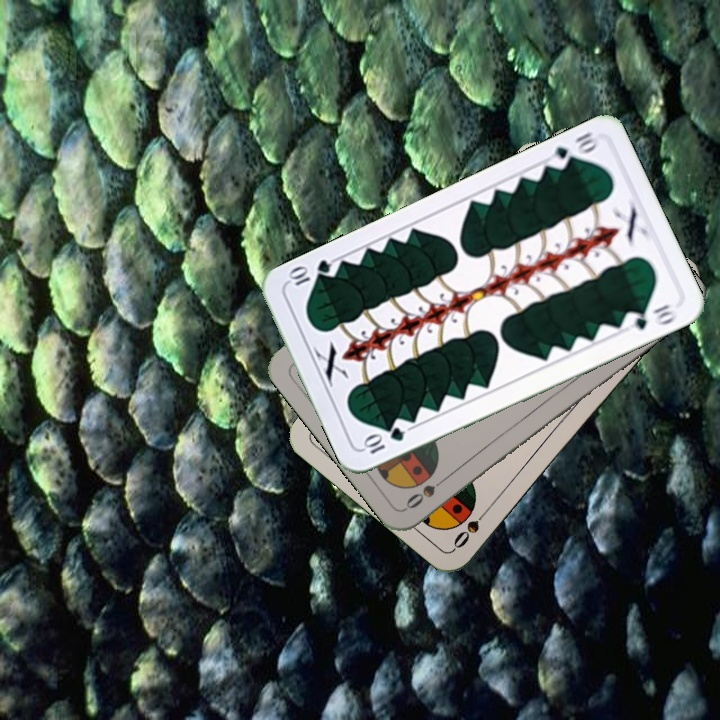G10: (547, 127, 603, 172), (359, 423, 407, 457)
SO: (449, 502, 494, 552), (401, 470, 453, 512)
